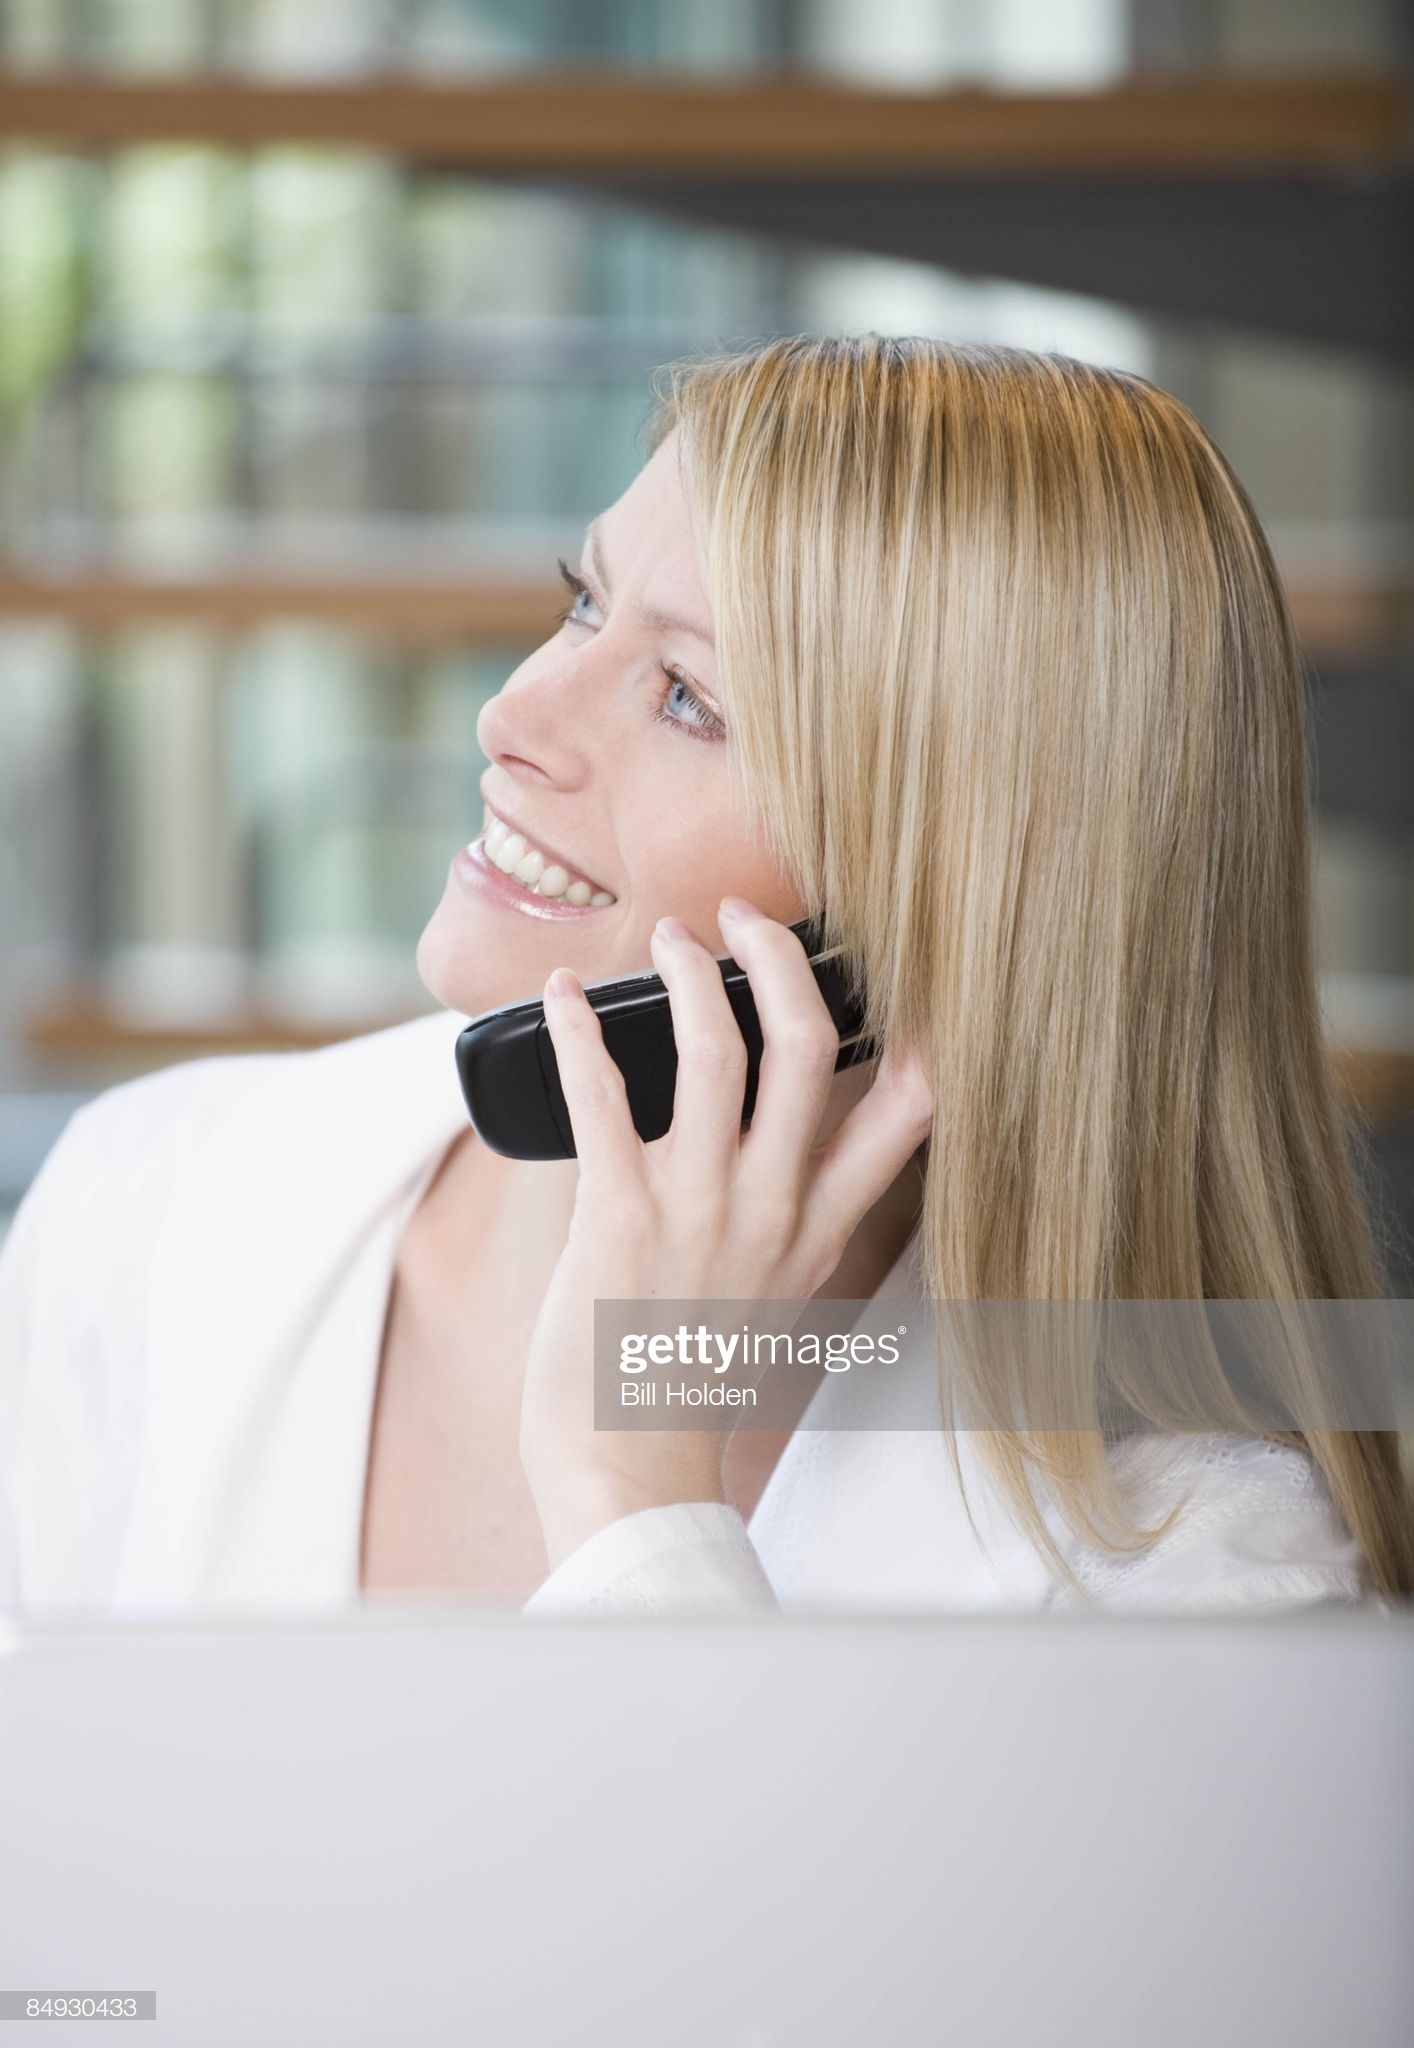phone: (470, 914, 969, 1206)
talk: (422, 510, 974, 1505)
